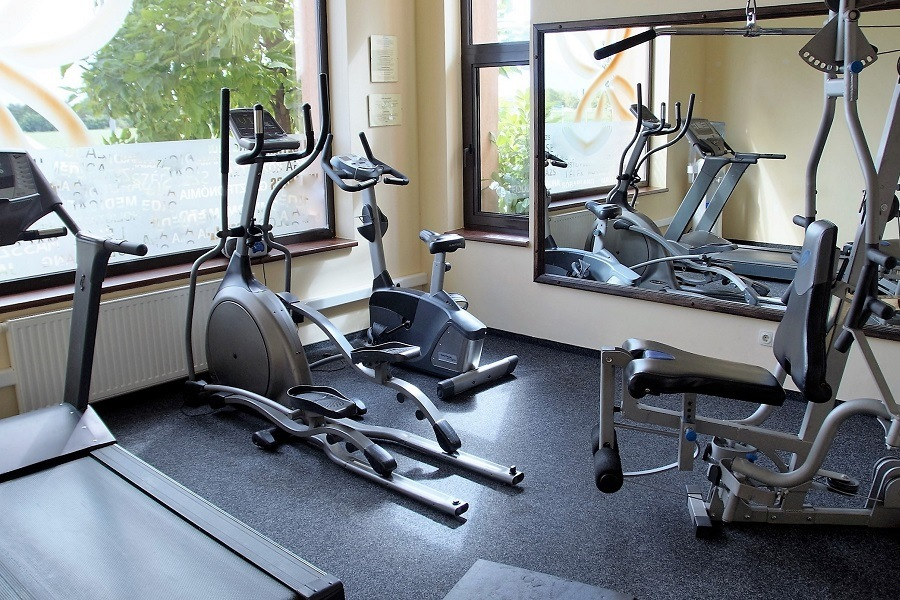gym_bike: (156, 81, 532, 535)
